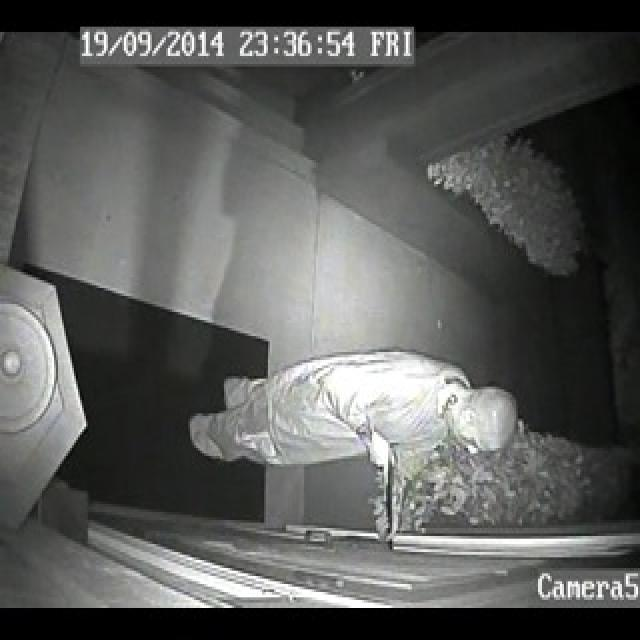thief: (184, 354, 522, 534)
